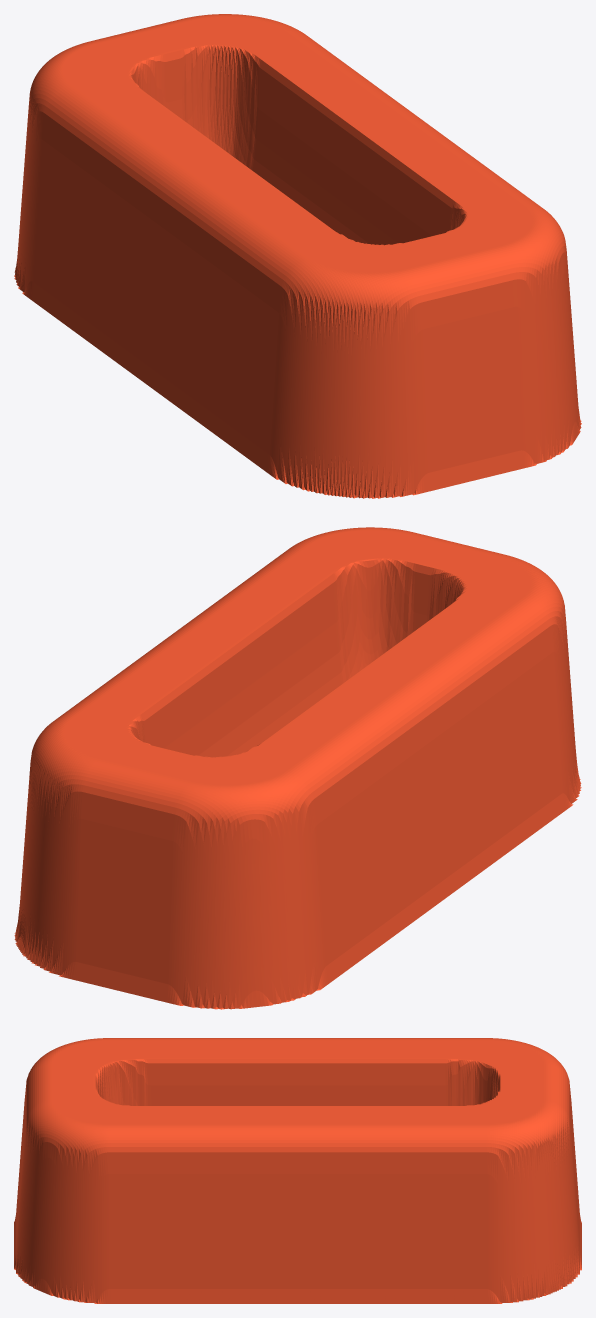
Rendered from mold.glb.
3 views of the same model, one above another, from view 1: azimuth 30°, elevation 25°; view 2: azimuth 150°, elevation 25°; view 3: azimuth 270°, elevation 25° (orthographic). The views are drawn at different scales.
Visible parts, largest first — view 1: geometry_0; view 2: geometry_0; view 3: geometry_0.
Boxes of the visible parts, box(x1,y1,x2,y2) form: geometry_0: box(14, 14, 581, 498); geometry_0: box(14, 527, 581, 1009); geometry_0: box(14, 1038, 581, 1303).
Size of the model in its own units: 0.0262 by 0.0172 by 0.0542.
